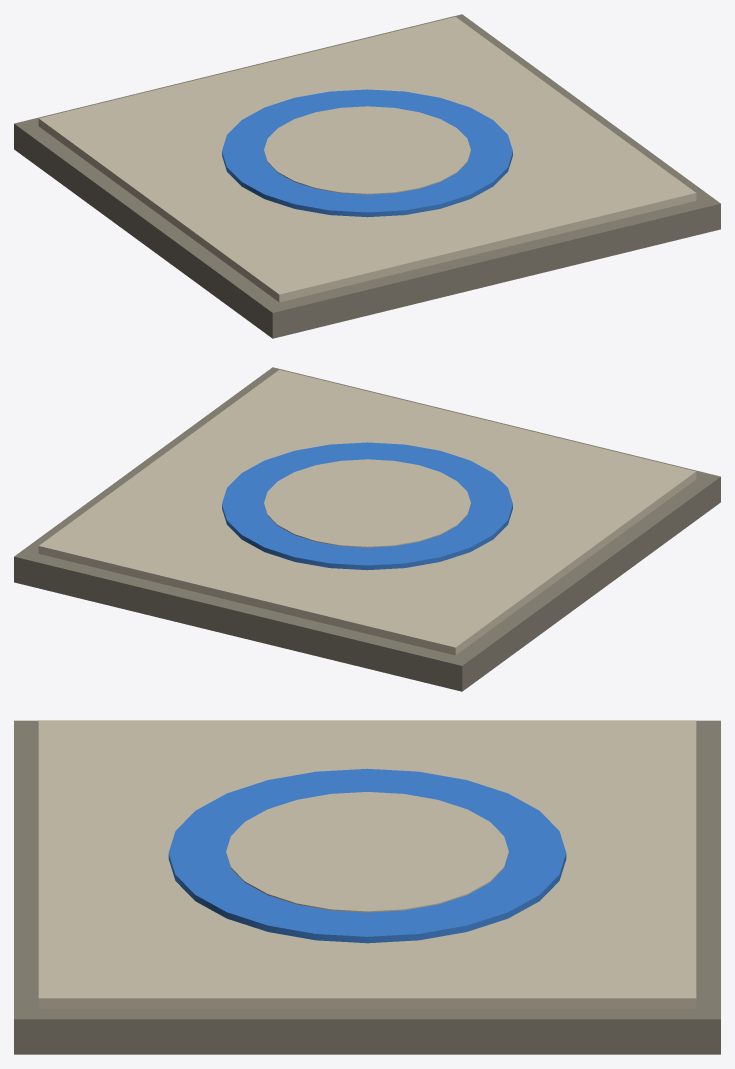
The model's file is k_meadow_start.glb.
3 views of the same model, one above another, from view 1: azimuth 30°, elevation 25°; view 2: azimuth 150°, elevation 25°; view 3: azimuth 270°, elevation 25° (orthographic). The views are drawn at different scales.
Visible parts, largest first — view 1: piece; view 2: piece; view 3: piece.
Part boxes in pixels (x1,y1,x2,y2): piece: (14, 14, 720, 338); piece: (14, 367, 720, 691); piece: (14, 720, 720, 1054).
Bounding box in the file's own units: 1 × 0.0837 × 1.
